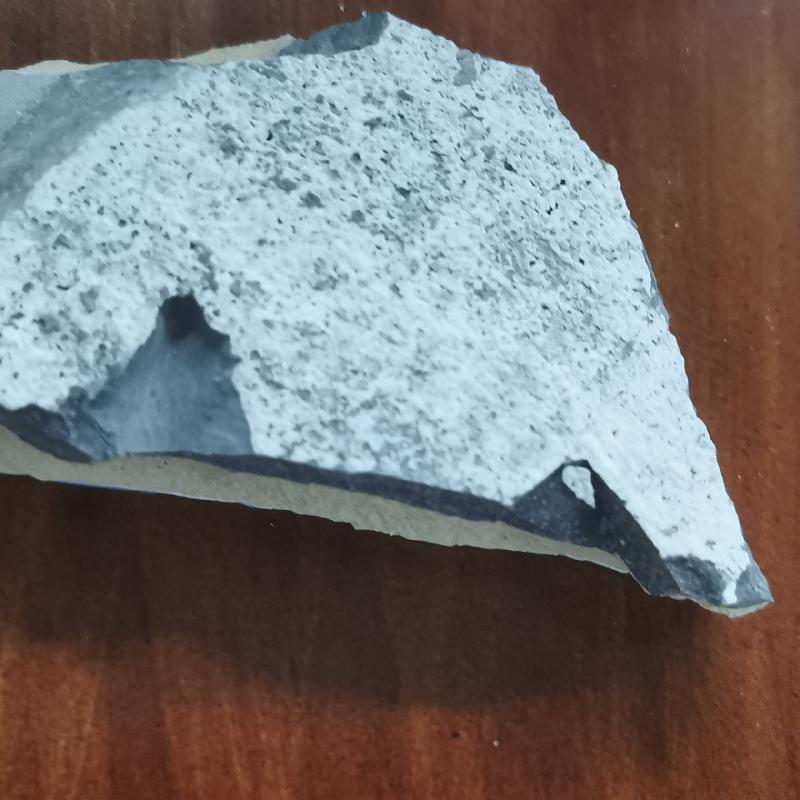tile: (0, 14, 779, 624)
